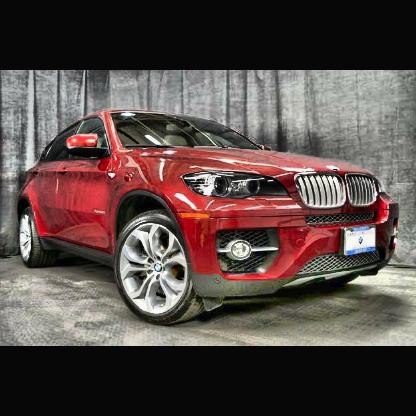BMW X6 SUV 2012: (12, 106, 416, 328)
